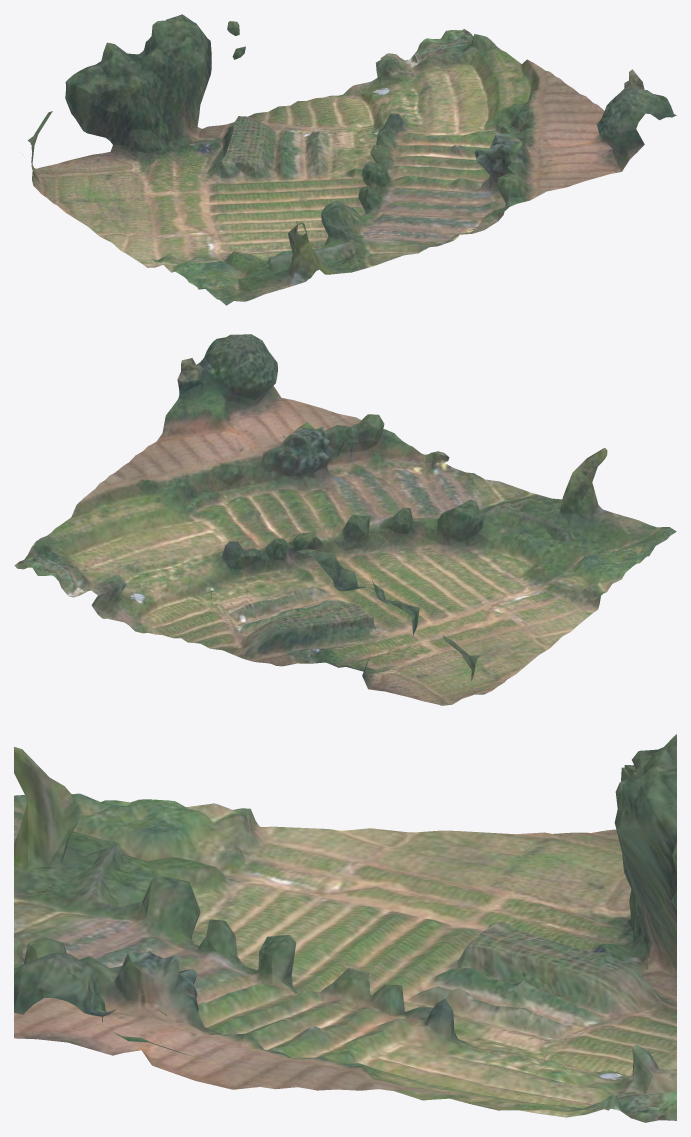
Rendered from Tile__006__002_L20_000020t1.glb.
3 renders of one model, top to bottom at view 1: azimuth 30°, elevation 25°; view 2: azimuth 150°, elevation 25°; view 3: azimuth 270°, elevation 25°, orthographic. The views are drawn at different scales.
Visible parts, largest first — view 1: root; view 2: root; view 3: root.
Boxes of the visible parts, bbox=[...] form: root: bbox=[28, 14, 676, 305]; root: bbox=[14, 334, 676, 705]; root: bbox=[14, 734, 676, 1122].
Size of the model in its own units: 31.45 by 8.73 by 25.69.
2 materials, 2 textured.
